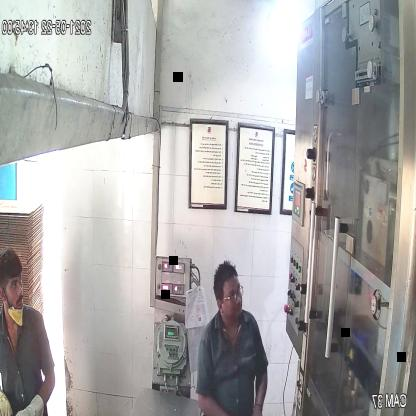goggles: (216, 282, 245, 307)
no_goggles: (0, 273, 25, 294)
